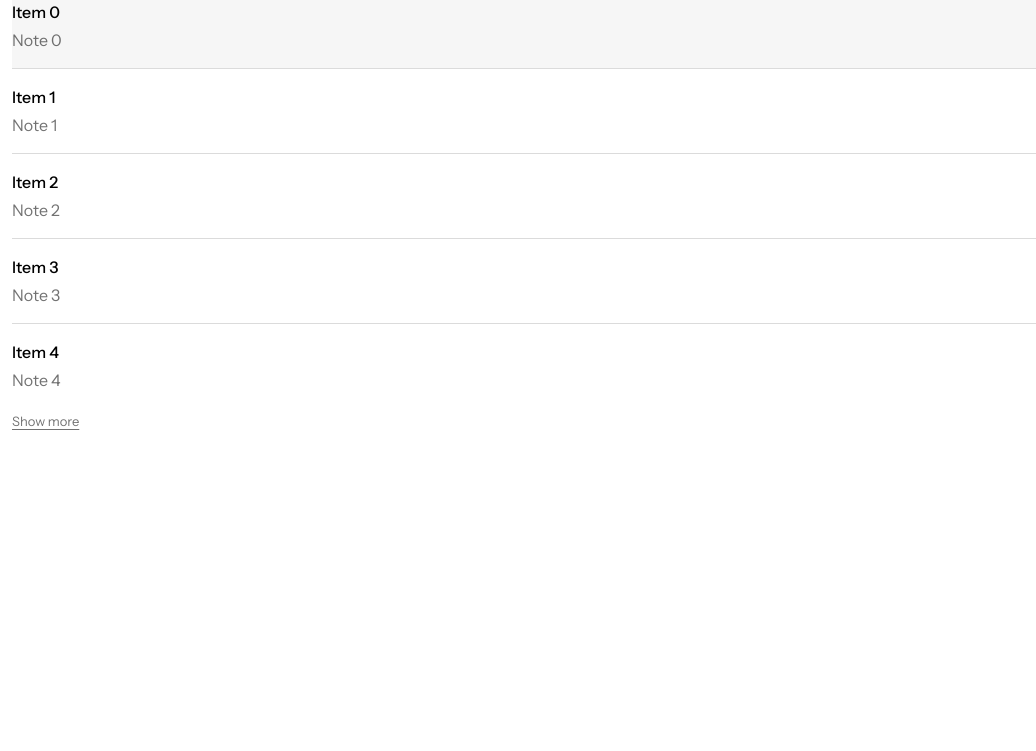
Test: ShowMoreList › reveals 5 more items per click and hides the button when exhausted
Step 1. Click the button "Show more" → point(46, 422), box x1=12 y1=412 x2=79 y2=432
(page scrolled)
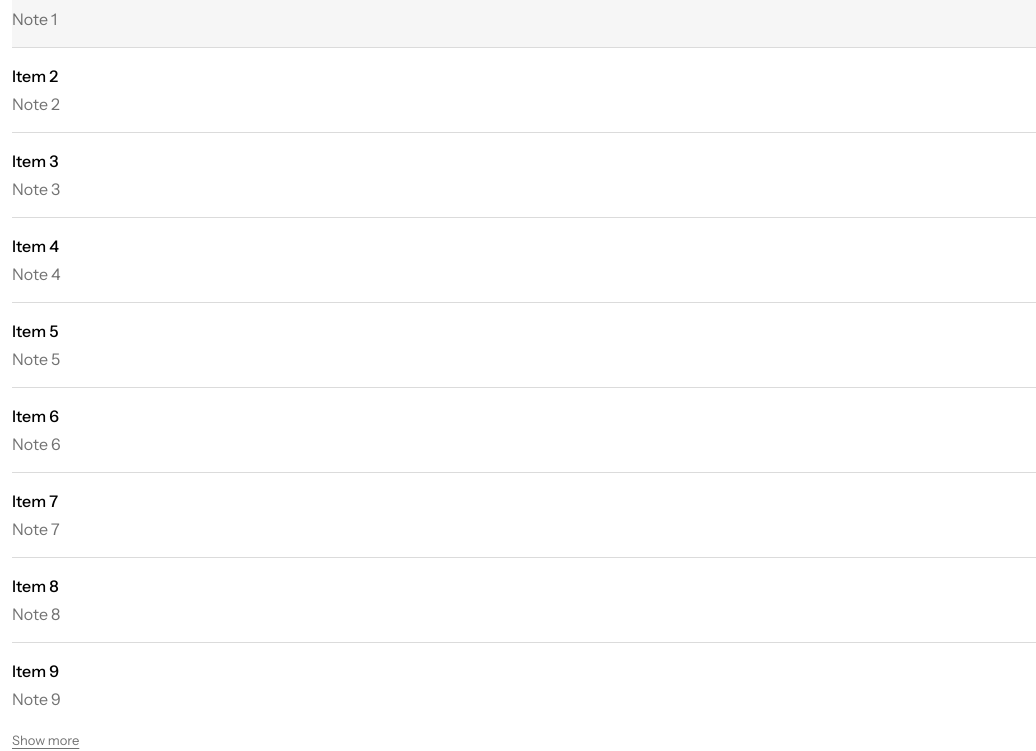
Check: the text "Item 10" is not shown
Check: the text "Item 9" is shown, box x1=12 y1=661 x2=59 y2=681
Step 2. Click the button "Show more" → point(46, 741), box x1=12 y1=731 x2=79 y2=750
(page scrolled)
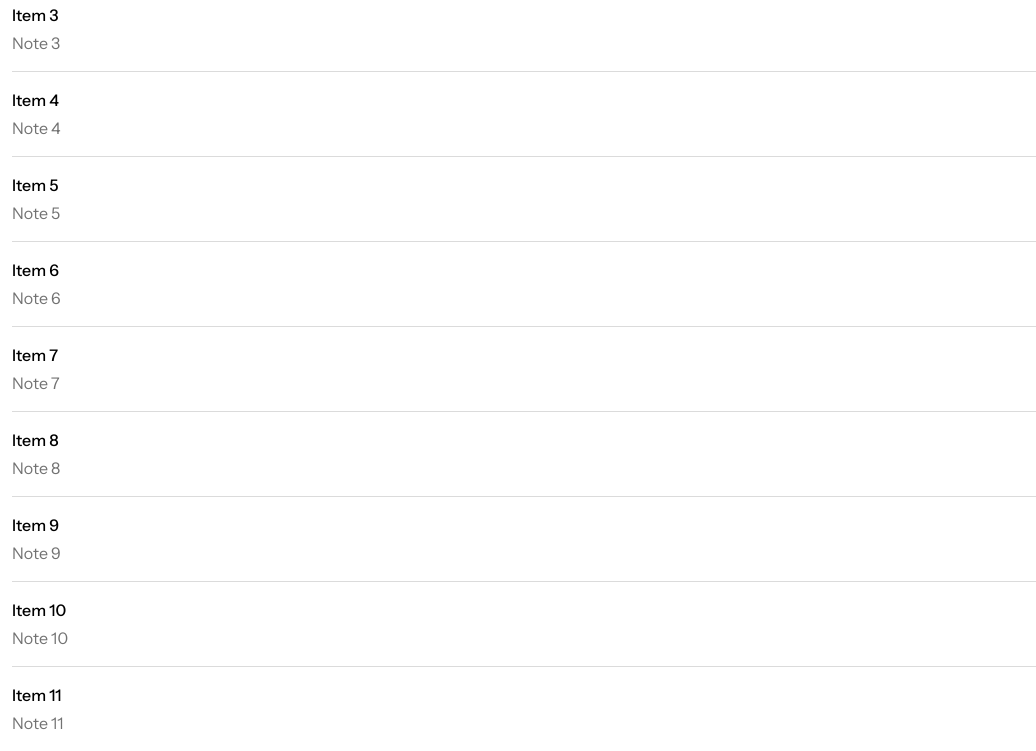
Check: the text "Item 11" is shown, box x1=12 y1=685 x2=62 y2=705
Check: the button "Show more" is gone
